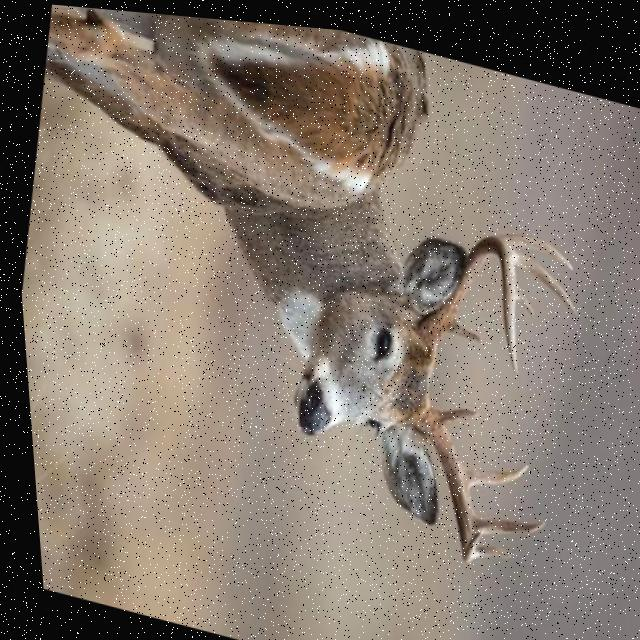L-F: (412, 227, 513, 366)
L-G1: (444, 308, 476, 335)
L-G2: (496, 222, 570, 261)
L-G3: (511, 240, 574, 306)
R-F: (404, 390, 474, 556)
R-G1: (432, 399, 473, 415)
R-G2: (457, 454, 522, 480)
R-G4: (467, 536, 504, 550)
